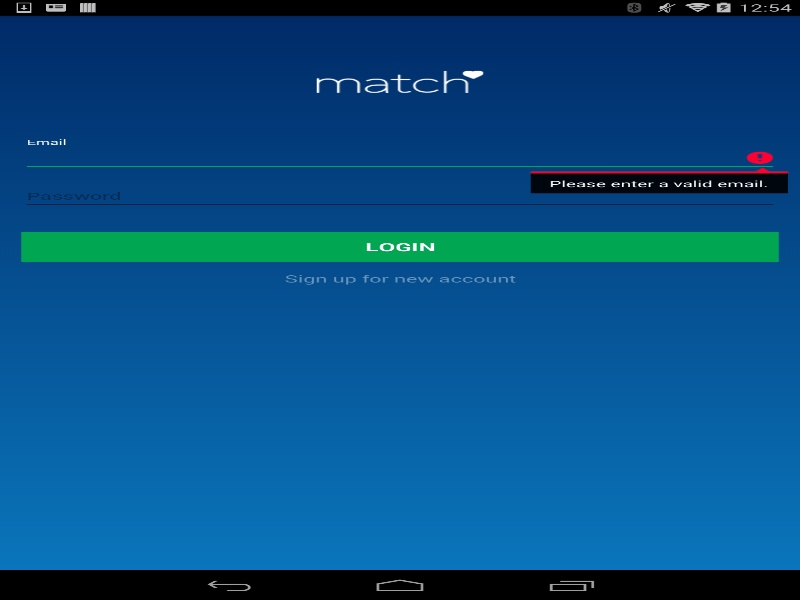Button: (21, 231, 778, 261)
Input: (21, 183, 778, 210), (21, 145, 778, 171)
